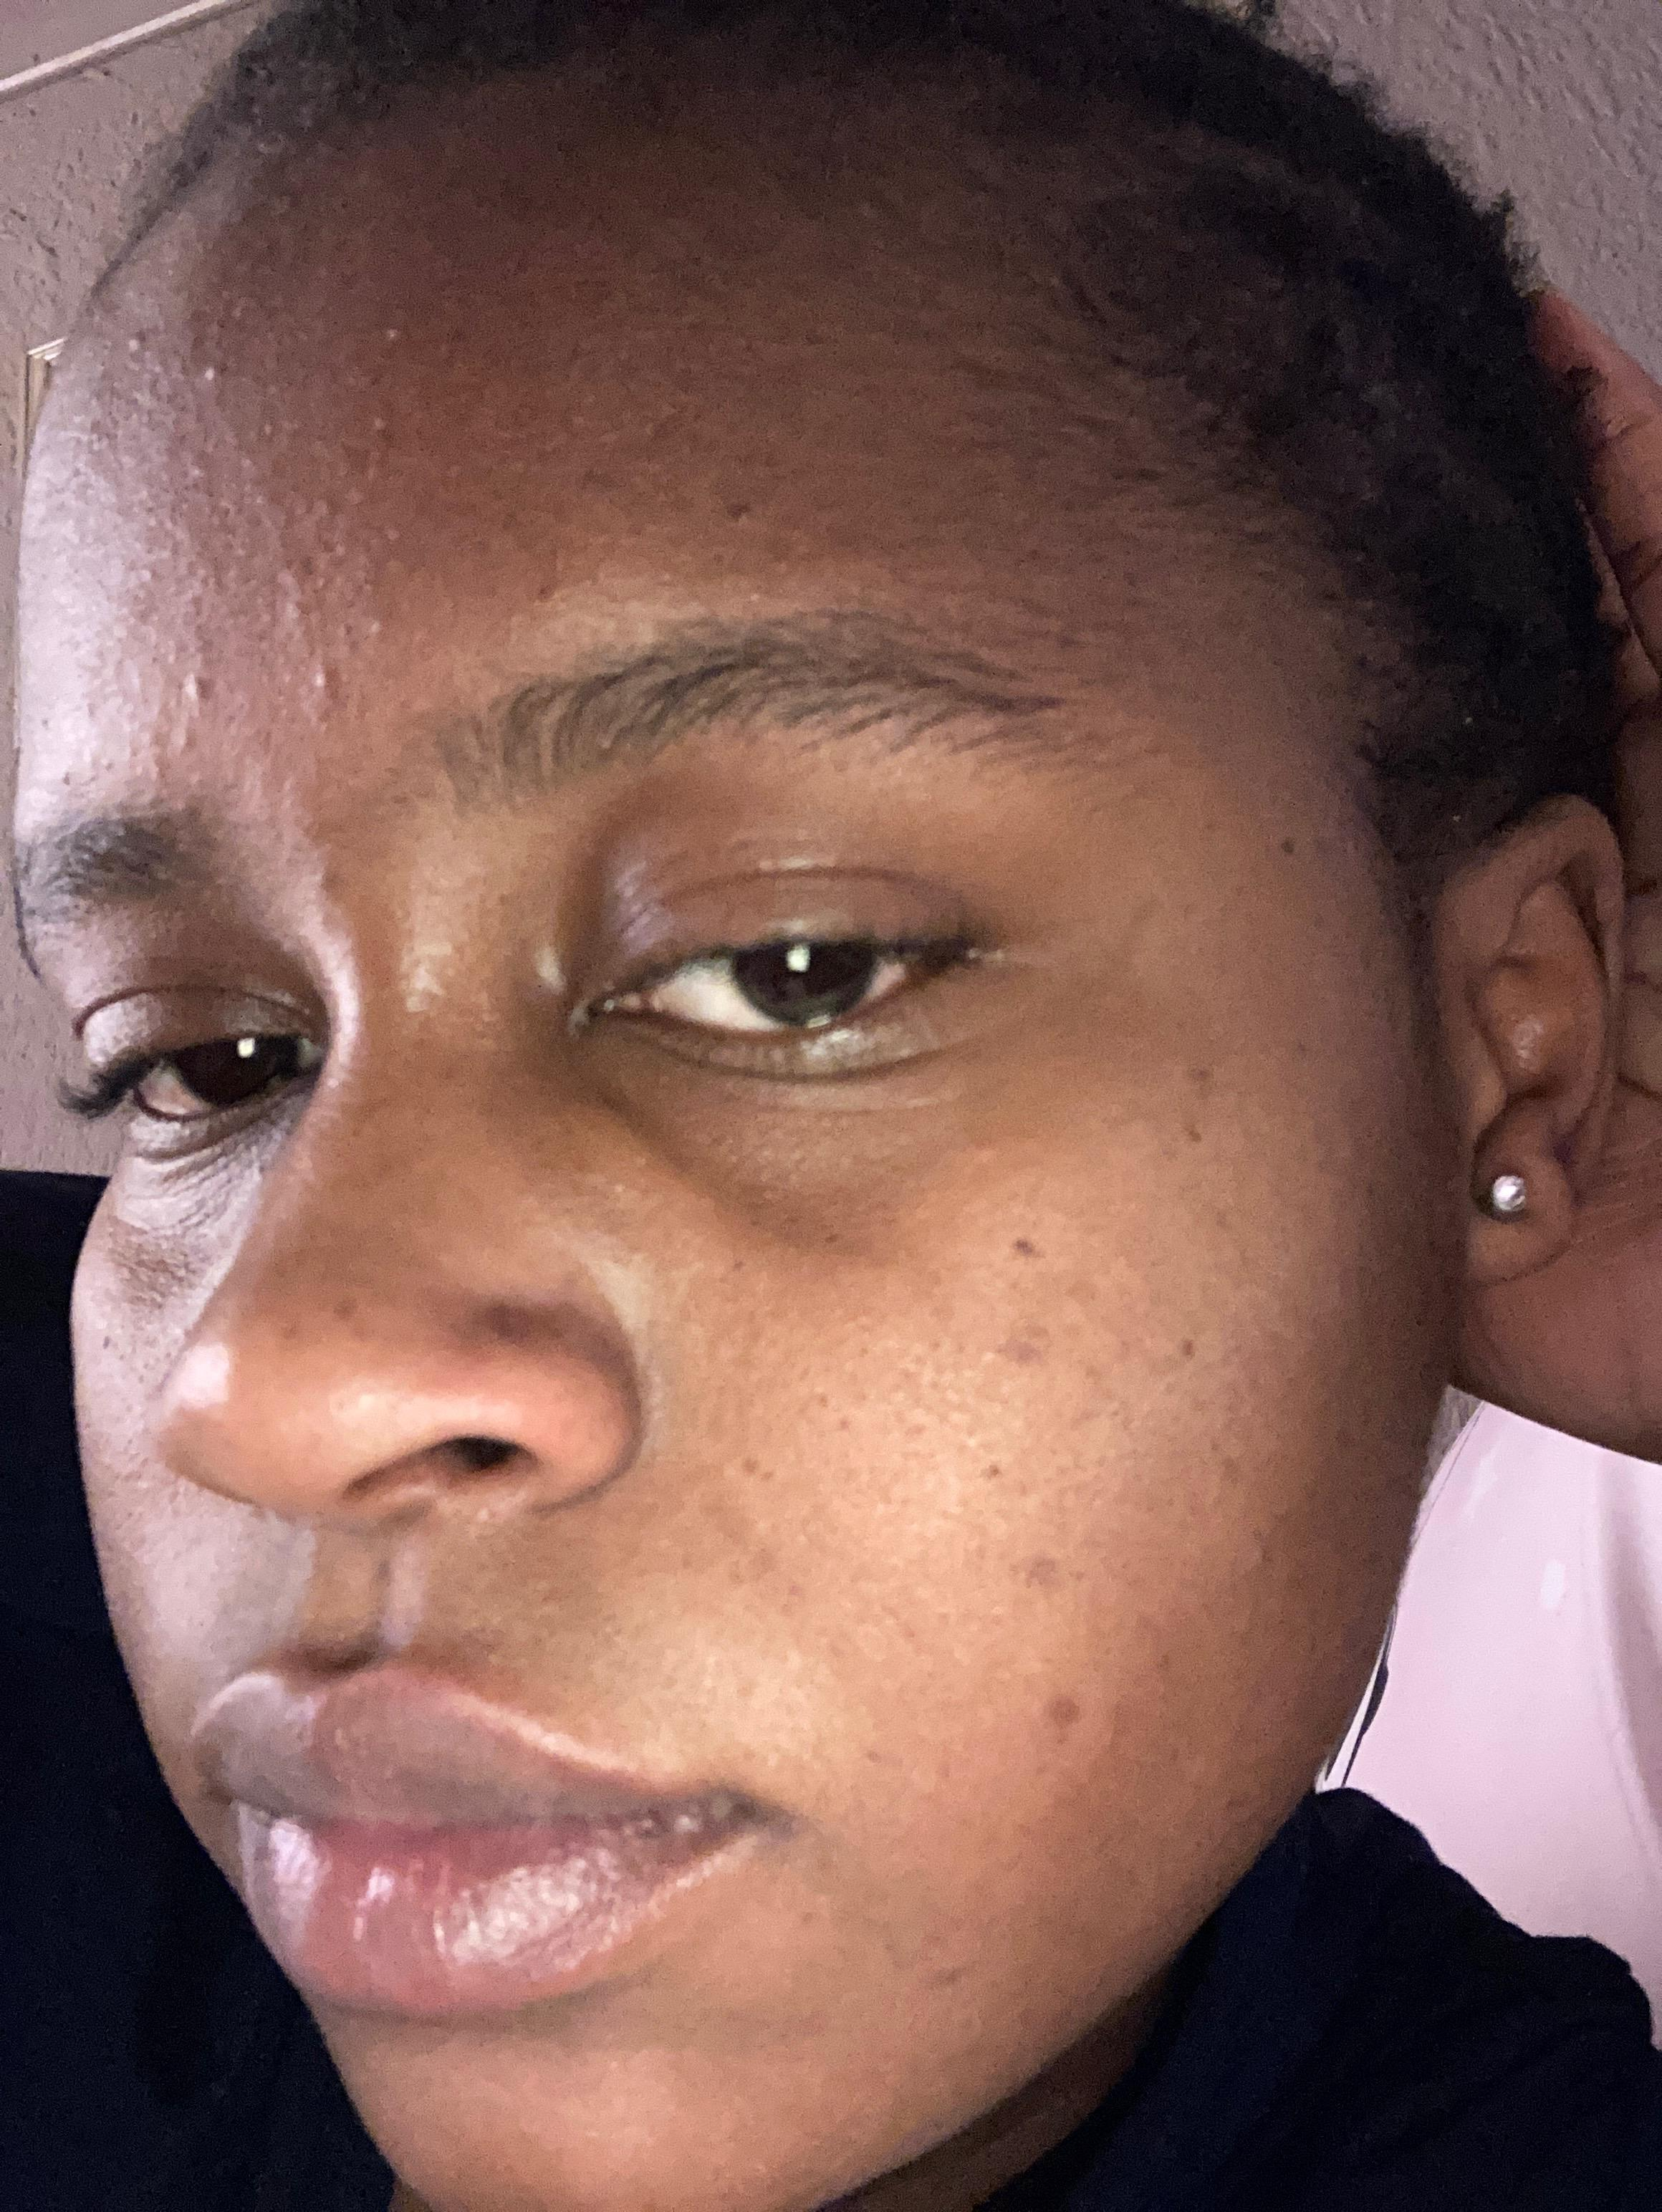Acne: (950, 1217, 1065, 1487), (264, 489, 402, 625), (267, 1278, 381, 1344), (155, 663, 232, 759), (894, 1943, 983, 2022), (510, 545, 618, 606), (1173, 1030, 1224, 1158), (1157, 1302, 1215, 1404), (1220, 1508, 1287, 1590), (295, 642, 361, 723), (1037, 1667, 1093, 1762), (330, 402, 396, 480), (548, 450, 630, 512), (1013, 1526, 1068, 1611), (168, 349, 248, 398), (711, 485, 773, 539), (297, 848, 353, 904), (805, 1386, 859, 1442), (356, 318, 424, 356), (110, 326, 173, 363), (70, 1327, 124, 1364), (1271, 822, 1302, 878), (61, 684, 98, 721), (49, 754, 75, 793)
Eyebags: (534, 1002, 1032, 1269), (79, 1088, 300, 1327)
Wrinkles: (684, 1467, 889, 1753)
